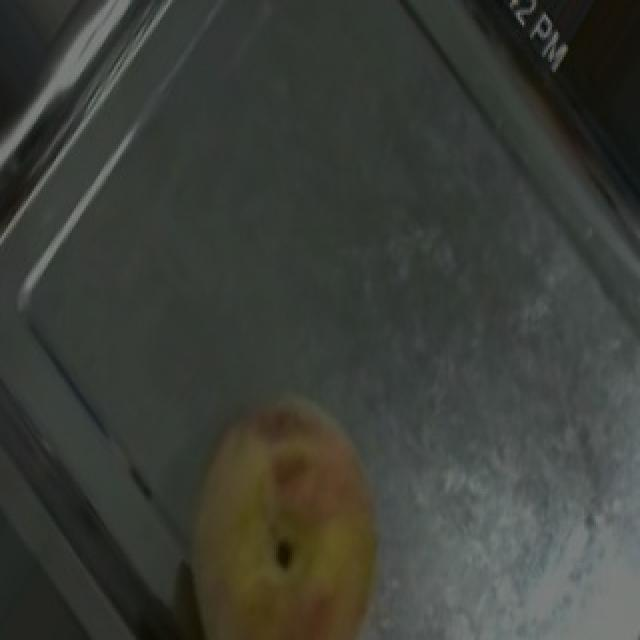Fruit: (140, 364, 420, 640)
